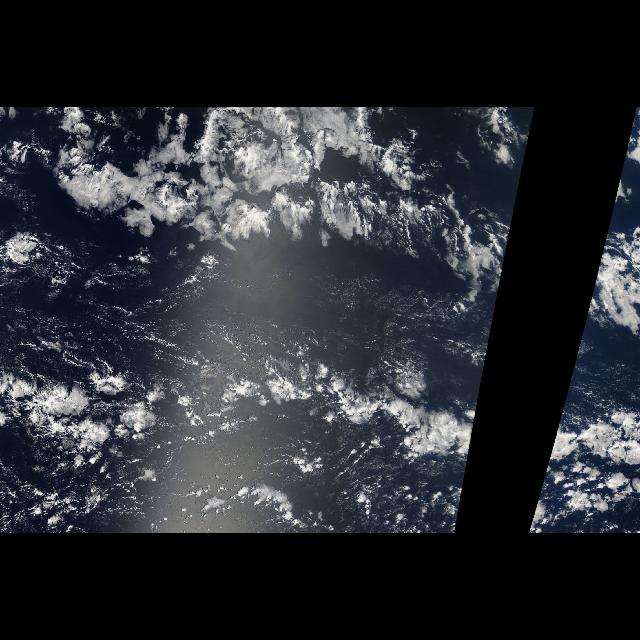Fish: (10, 345, 488, 533), (528, 345, 640, 533)
Flower: (5, 115, 477, 265)
